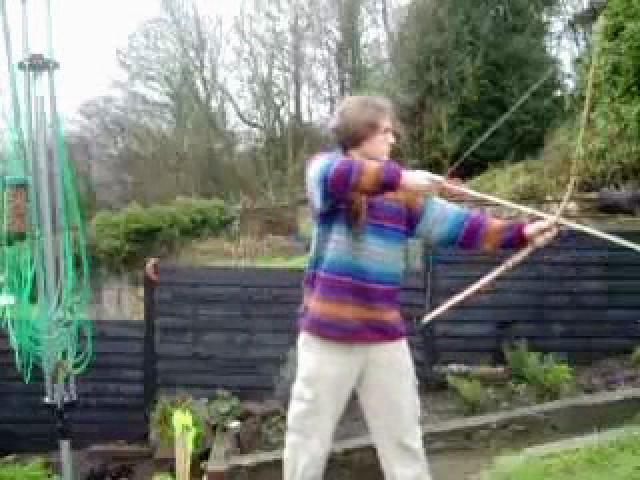I: (279, 86, 567, 480)
